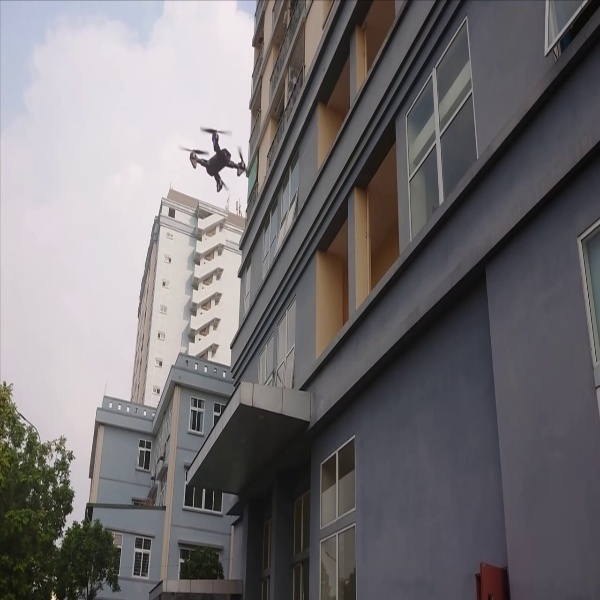drone: (174, 121, 255, 199)
